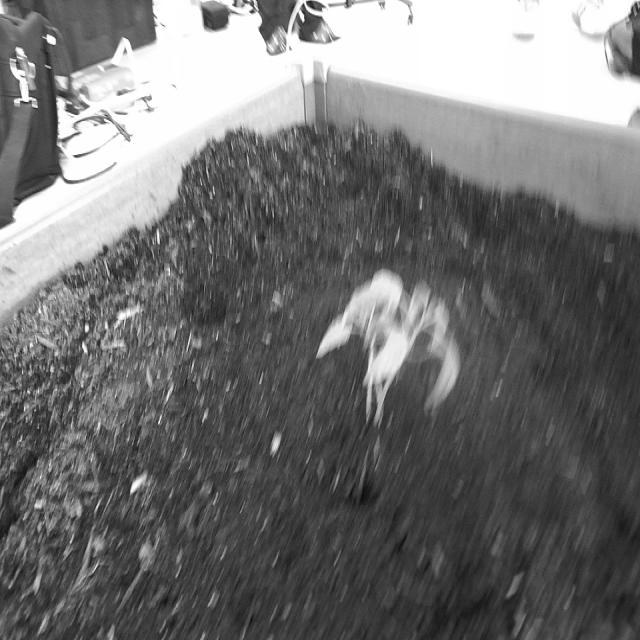Healthy: (313, 252, 464, 442)
